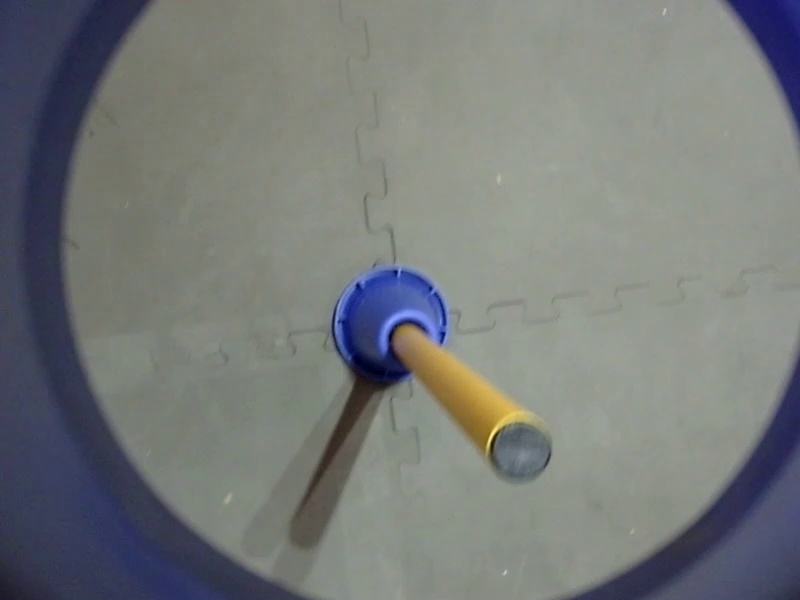tip: (478, 407, 564, 488)
